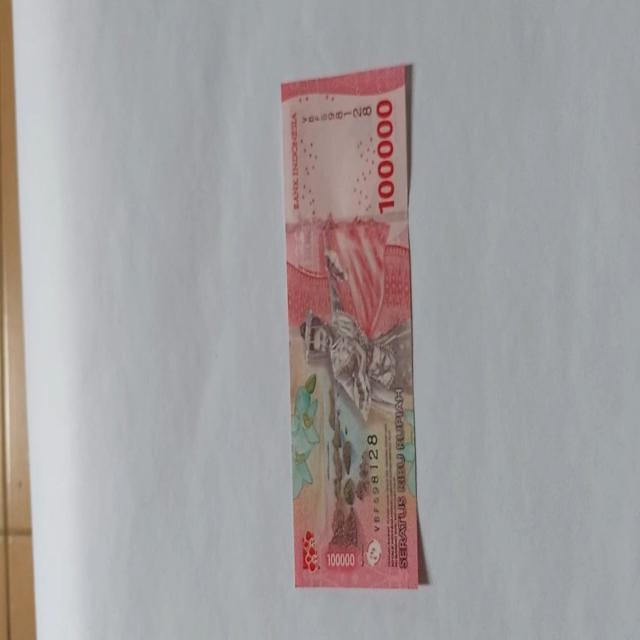seratus ribu rupiah: (280, 63, 418, 590)
